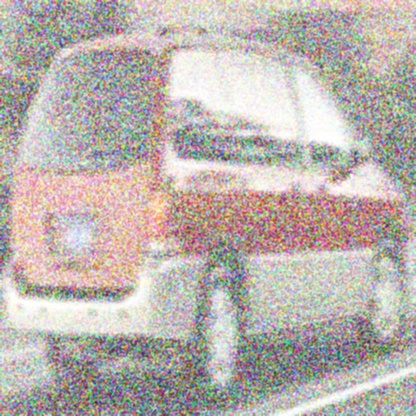Vehicle: (2, 19, 414, 413)
